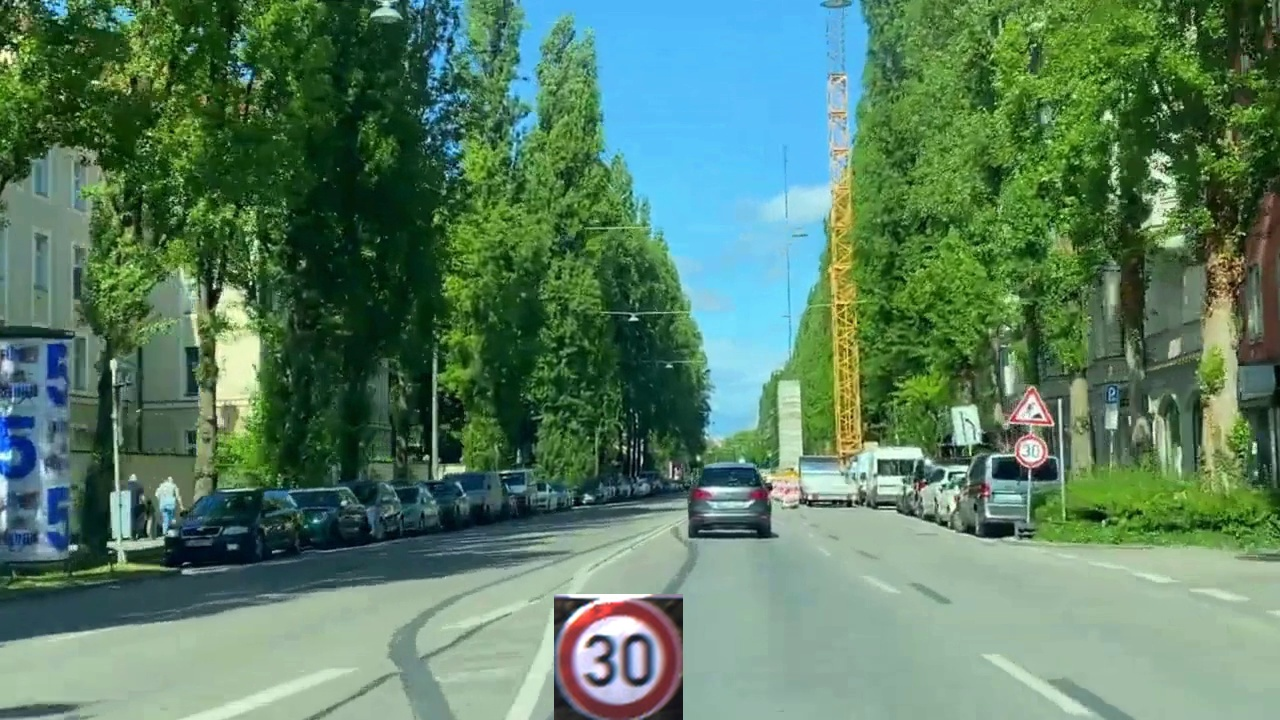Speed 30: (554, 594, 683, 720)
